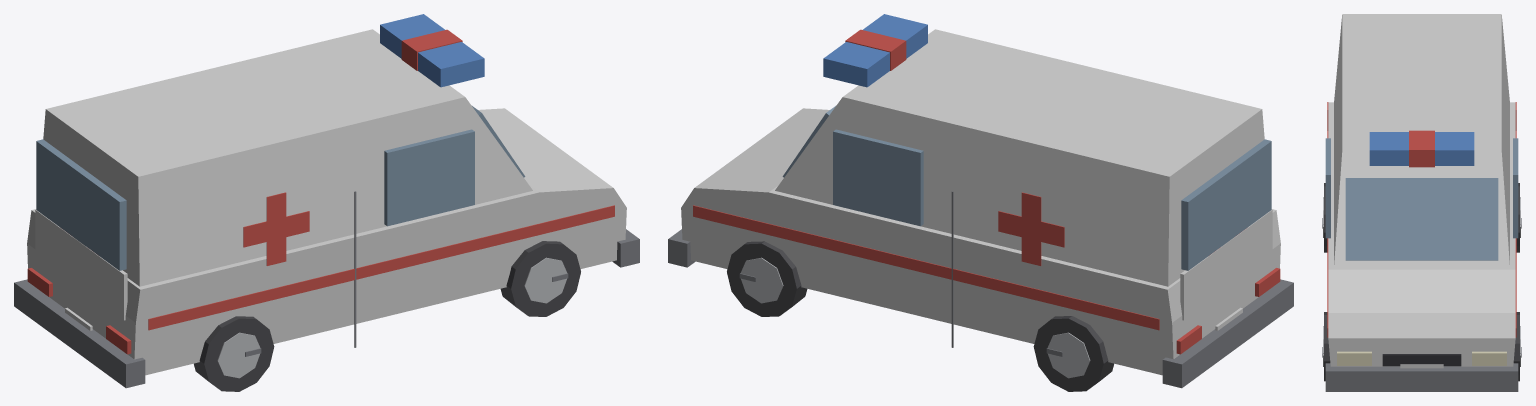
The model's file is Arac_Ambulans.glb.
3 renders of one model, left to right at view 1: azimuth 30°, elevation 25°; view 2: azimuth 150°, elevation 25°; view 3: azimuth 270°, elevation 25°, orthographic. The views are drawn at different scales.
Parts seen in each view (by area): view 1: Arac_Ambulans, Wheel_0.009, Wheel_2.009; view 2: Arac_Ambulans, Wheel_3.009, Wheel_1.009; view 3: Arac_Ambulans, Wheel_0.009, Wheel_1.009, Wheel_2.009, Wheel_3.009.
Part boxes in pixels (box(x1,y1,x2,y2)): Arac_Ambulans: box(14, 14, 639, 388); Wheel_0.009: box(500, 241, 580, 316); Wheel_2.009: box(194, 316, 274, 391); Arac_Ambulans: box(668, 14, 1293, 388); Wheel_3.009: box(1033, 316, 1113, 391); Wheel_1.009: box(727, 241, 807, 316); Arac_Ambulans: box(1325, 14, 1518, 391); Wheel_0.009: box(1322, 312, 1330, 381); Wheel_1.009: box(1513, 312, 1521, 381); Wheel_2.009: box(1322, 183, 1327, 252); Wheel_3.009: box(1516, 183, 1521, 252).
Bounding box in the file's own units: 5.86 × 2.71 × 2.29.
